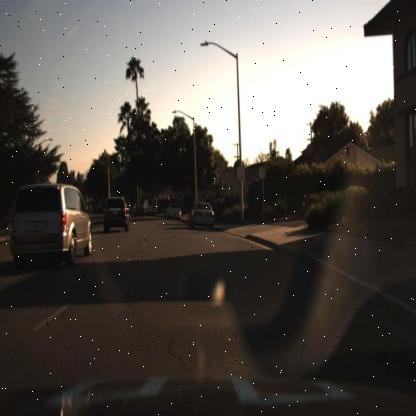car: (5, 181, 94, 266), (99, 193, 133, 237), (187, 202, 218, 225), (163, 200, 182, 223), (130, 200, 147, 223), (142, 198, 158, 217)
